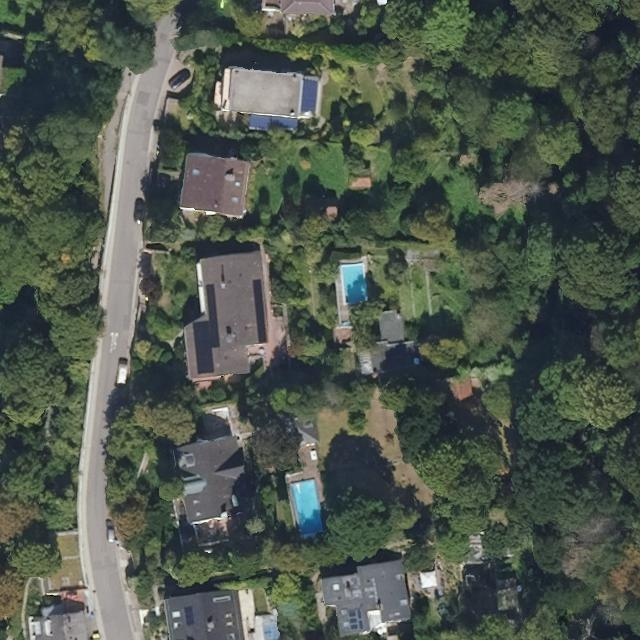PV: (192, 283, 222, 375), (252, 278, 268, 345), (347, 607, 365, 631), (183, 605, 195, 626)
